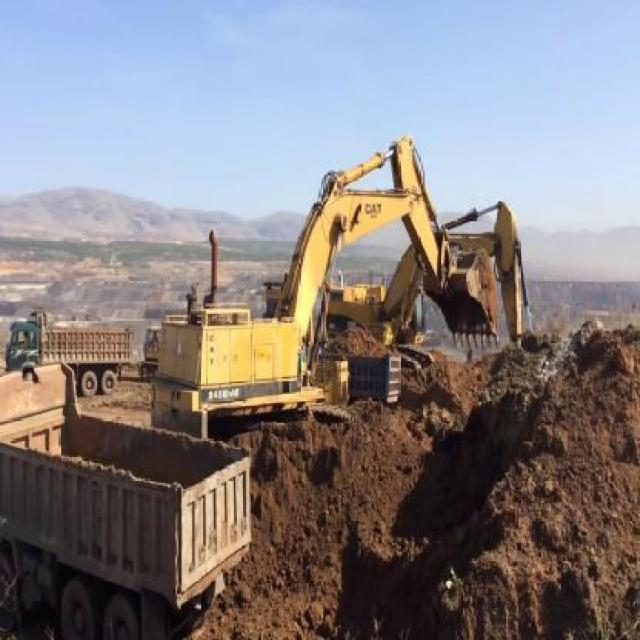dump_truck: (1, 377, 252, 631), (4, 310, 134, 384), (349, 357, 403, 401), (322, 353, 346, 405)
excavator: (145, 135, 497, 451), (322, 193, 528, 335)
